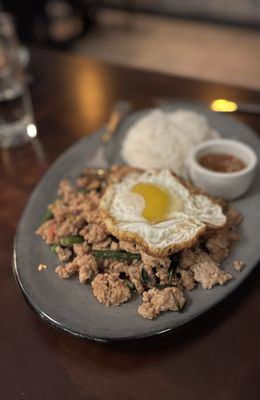pizza: (0, 8, 39, 150), (186, 137, 259, 201)
